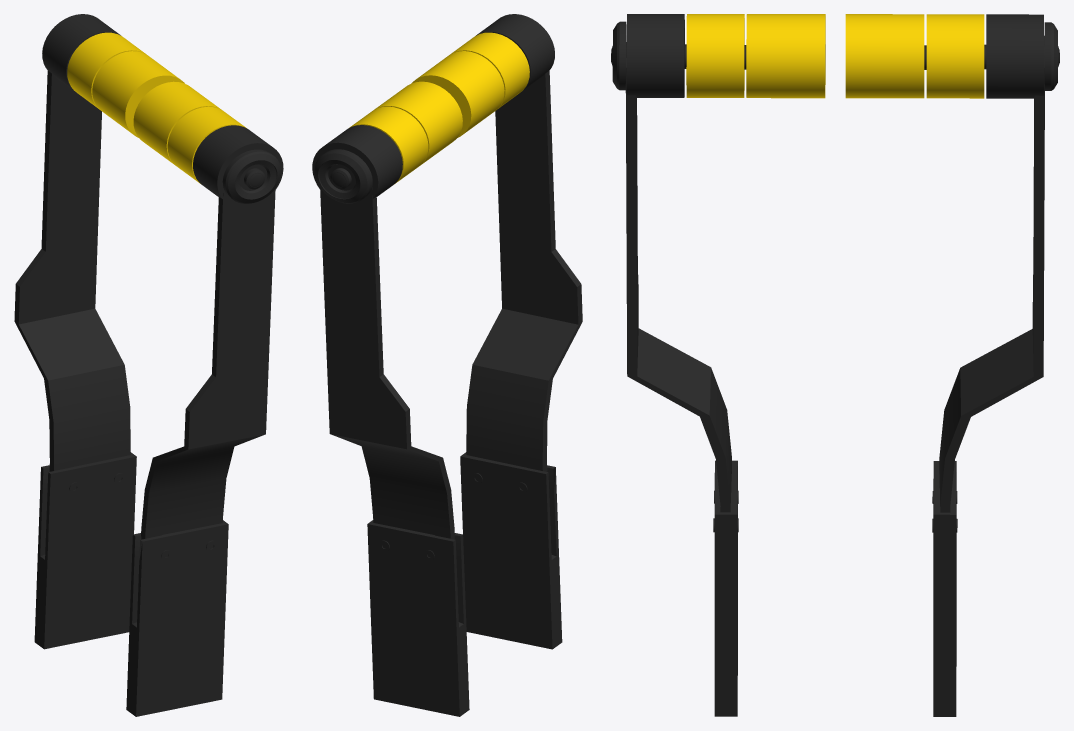
Rendered from lever.glb.
3 renders of one model, left to right at view 1: azimuth 30°, elevation 25°; view 2: azimuth 150°, elevation 25°; view 3: azimuth 270°, elevation 25°, orthographic. The views are drawn at different scales.
Visible parts, largest first — view 1: Object_6.001, Object_4.001, Object_5.001; view 2: Object_6.001, Object_4.001, Object_5.001; view 3: Object_6.001, Object_4.001, Object_5.001.
Boxes of the visible parts, x1,y1,x2,y2 form: Object_6.001: (14, 70, 275, 716); Object_4.001: (67, 32, 246, 183); Object_5.001: (42, 14, 283, 203); Object_6.001: (320, 70, 582, 716); Object_4.001: (349, 32, 529, 184); Object_5.001: (312, 14, 554, 203); Object_6.001: (625, 35, 1044, 716); Object_4.001: (686, 14, 984, 98); Object_5.001: (611, 14, 1059, 98).
Size of the model in its own units: 0.0315 by 0.1583 by 0.0929.
